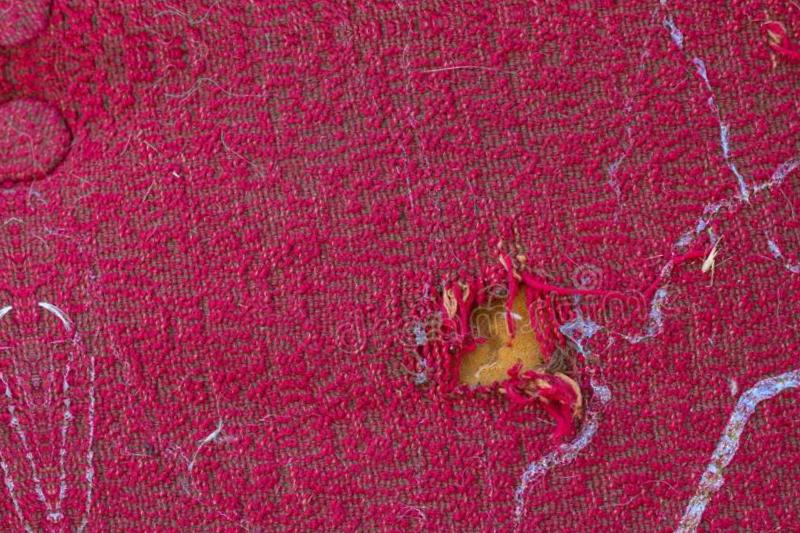hole: (431, 276, 568, 402)
